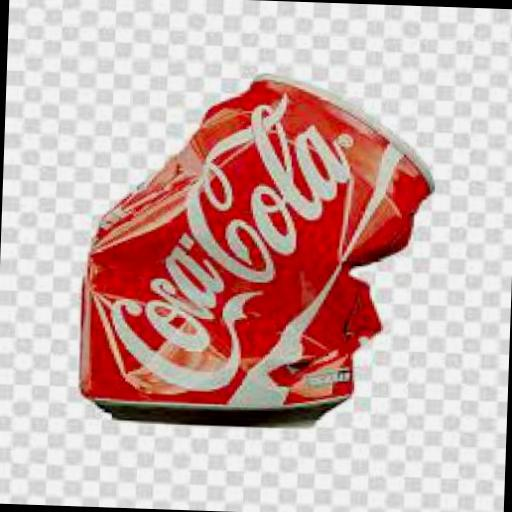metal: (73, 64, 438, 431)
